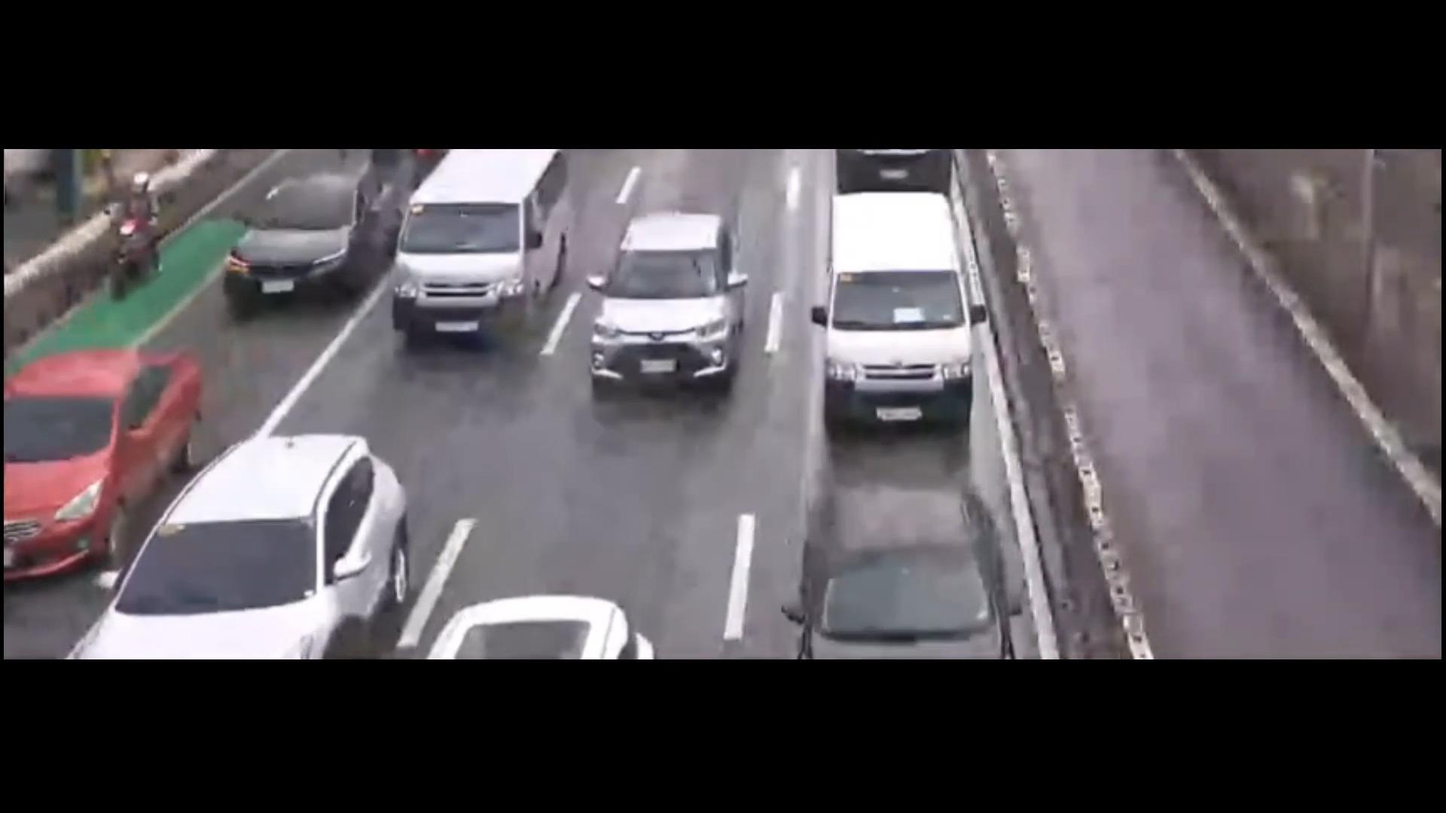Motorcycle: (83, 168, 187, 296)
SUV: (62, 418, 464, 662)
Sedan: (0, 322, 226, 590), (557, 181, 759, 411), (208, 149, 416, 326)
Van: (774, 179, 1008, 427), (375, 140, 586, 359)
